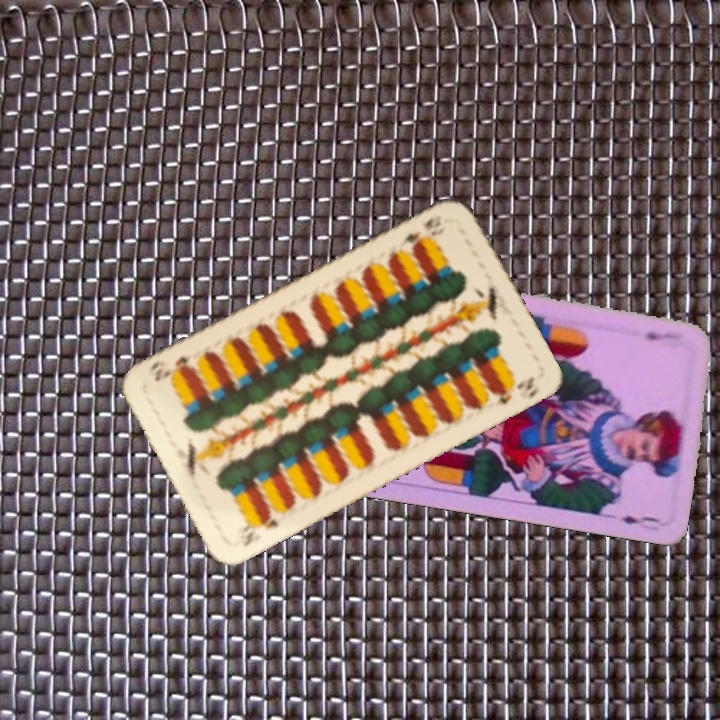E10: (396, 211, 444, 251), (238, 508, 282, 550)
EU: (641, 325, 686, 343)
